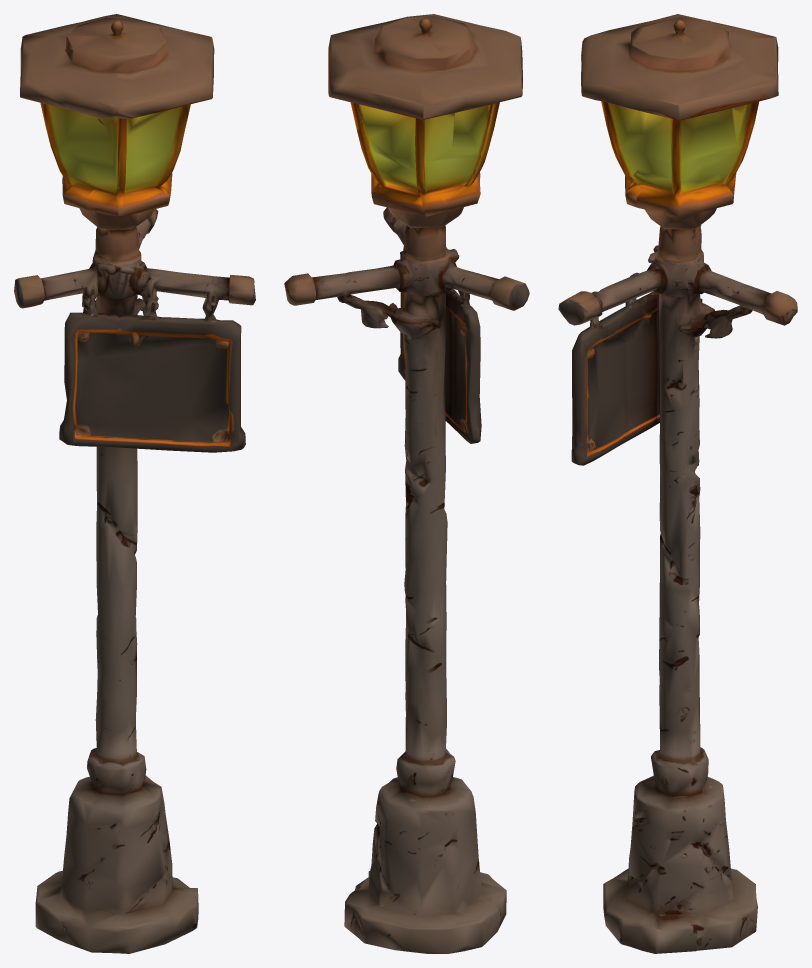
The model's file is prop_street_lamp.glb.
The picture shows the model from 3 angles, left to right: view 1: azimuth 30°, elevation 25°; view 2: azimuth 150°, elevation 25°; view 3: azimuth 270°, elevation 25°; orthographic projection.
Parts seen in each view (by area): view 1: tripo_node_c84e6e99-6c0e-4605-a08f-08fd301d09a0; view 2: tripo_node_c84e6e99-6c0e-4605-a08f-08fd301d09a0; view 3: tripo_node_c84e6e99-6c0e-4605-a08f-08fd301d09a0.
Boxes of the visible parts, x1=… form: tripo_node_c84e6e99-6c0e-4605-a08f-08fd301d09a0: x1=14, y1=14, x2=255, y2=953; tripo_node_c84e6e99-6c0e-4605-a08f-08fd301d09a0: x1=284, y1=14, x2=529, y2=953; tripo_node_c84e6e99-6c0e-4605-a08f-08fd301d09a0: x1=558, y1=14, x2=797, y2=953.
Size of the model in its own units: 0.2283 by 0.9997 by 0.2405.
Materials: 1 (1 with a texture image).
